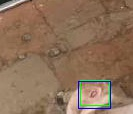text: (80, 80, 109, 105)
